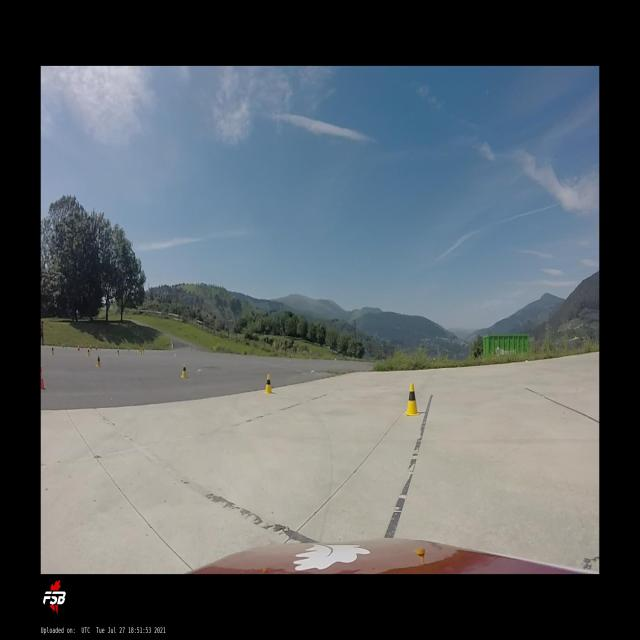orange_cone: (41, 365, 46, 390), (78, 344, 80, 351)
yellow_cone: (405, 383, 420, 416), (264, 374, 273, 394), (180, 363, 188, 379), (96, 355, 102, 367), (51, 346, 54, 356), (88, 345, 91, 354), (117, 348, 120, 356), (140, 348, 143, 355), (88, 348, 90, 357), (95, 345, 98, 350)
